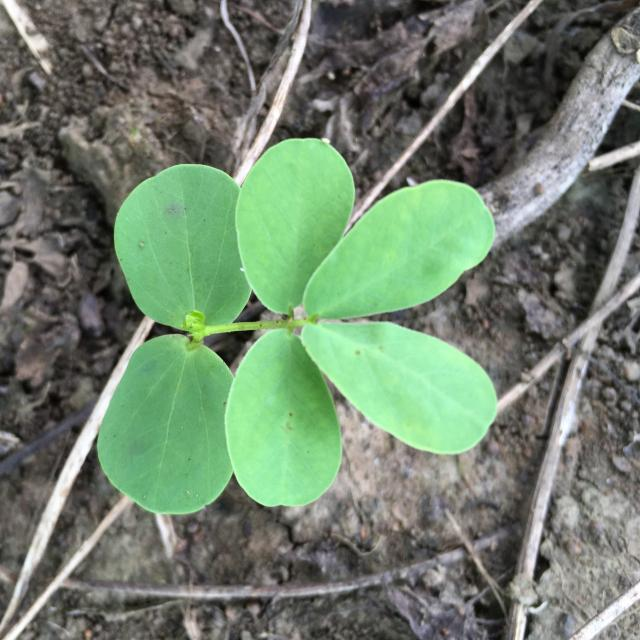Sicklepod: (96, 138, 496, 515)
